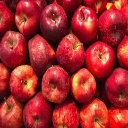apple: (0, 94, 24, 128)
